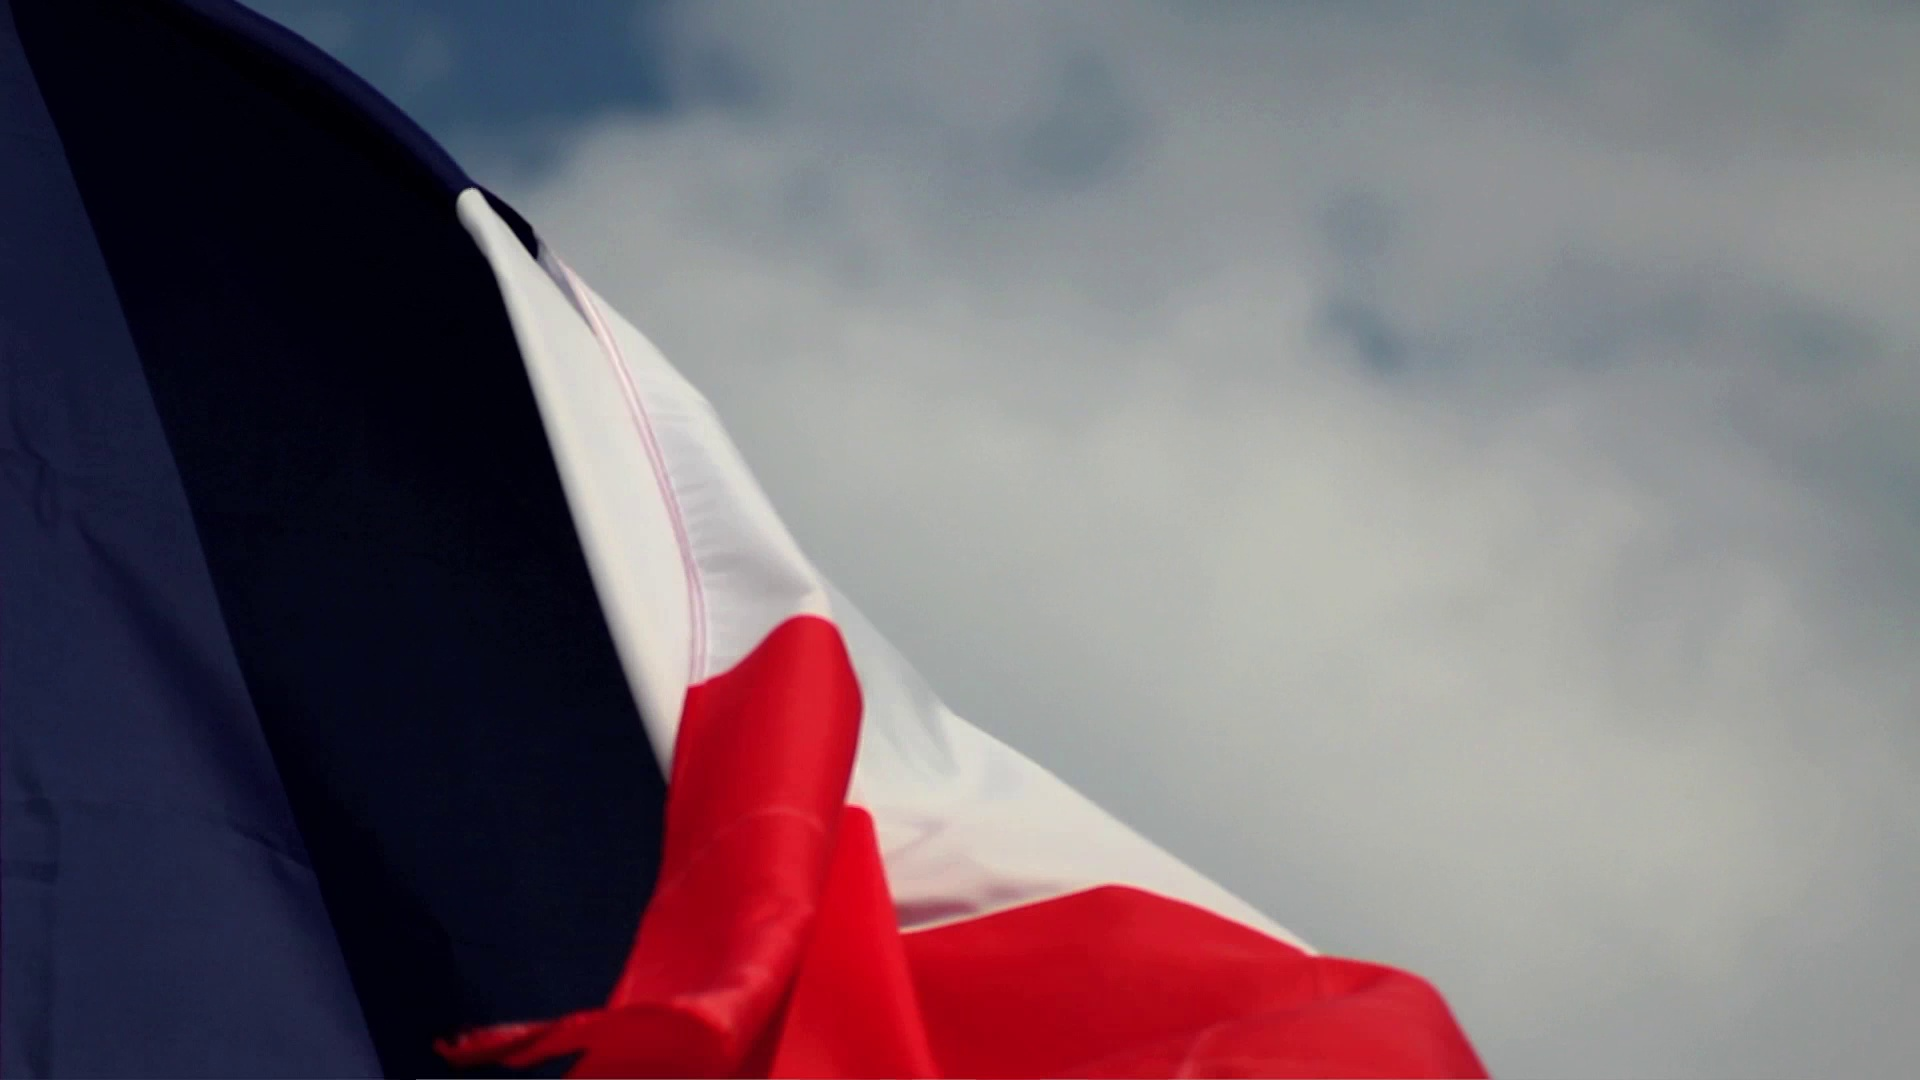French Flag: (1, 1, 1501, 1079)
